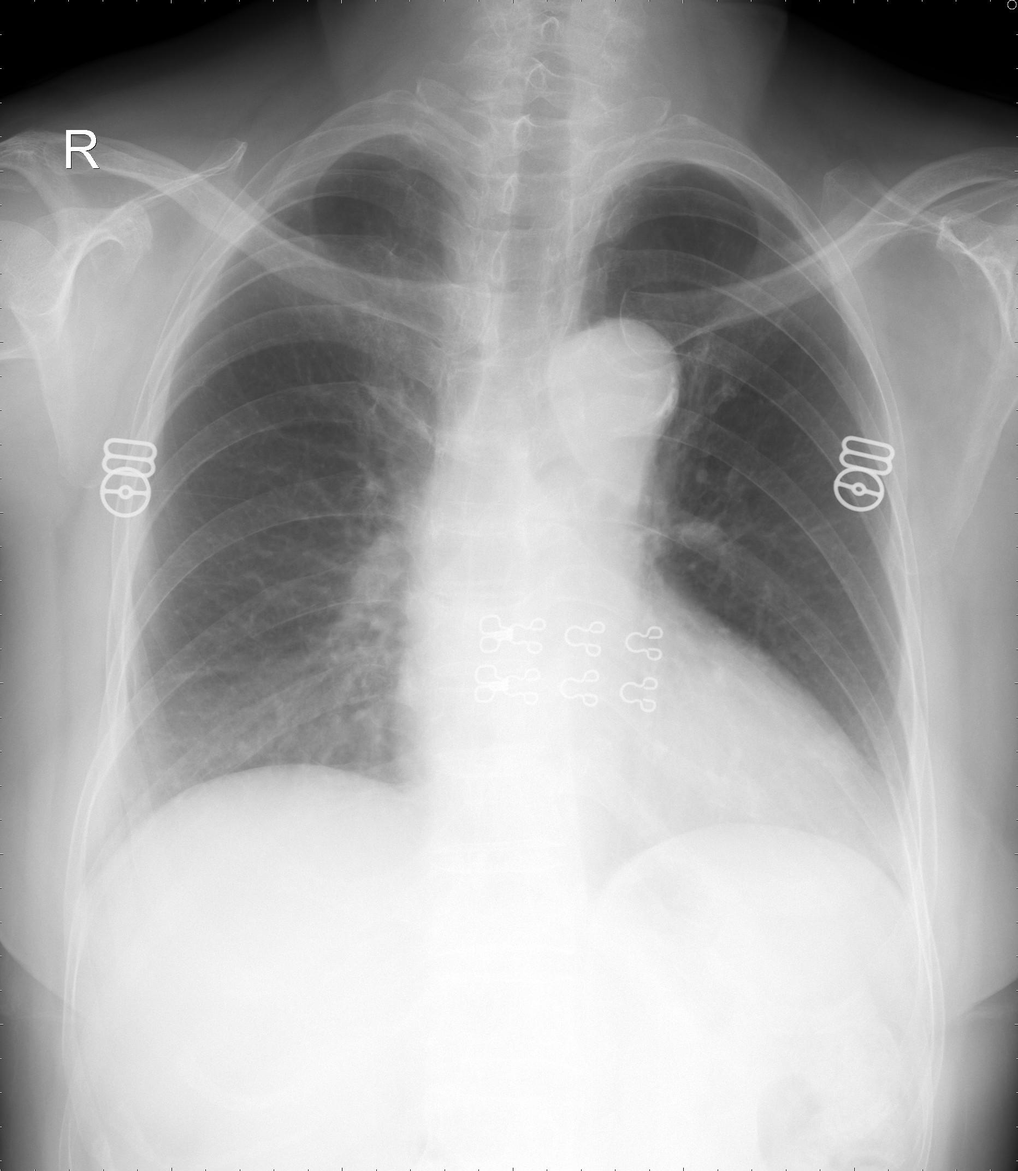Aortic enlargement: (549, 318, 683, 452)
Cardiomegaly: (388, 676, 901, 888)
Pleural thickening: (601, 154, 678, 208)
